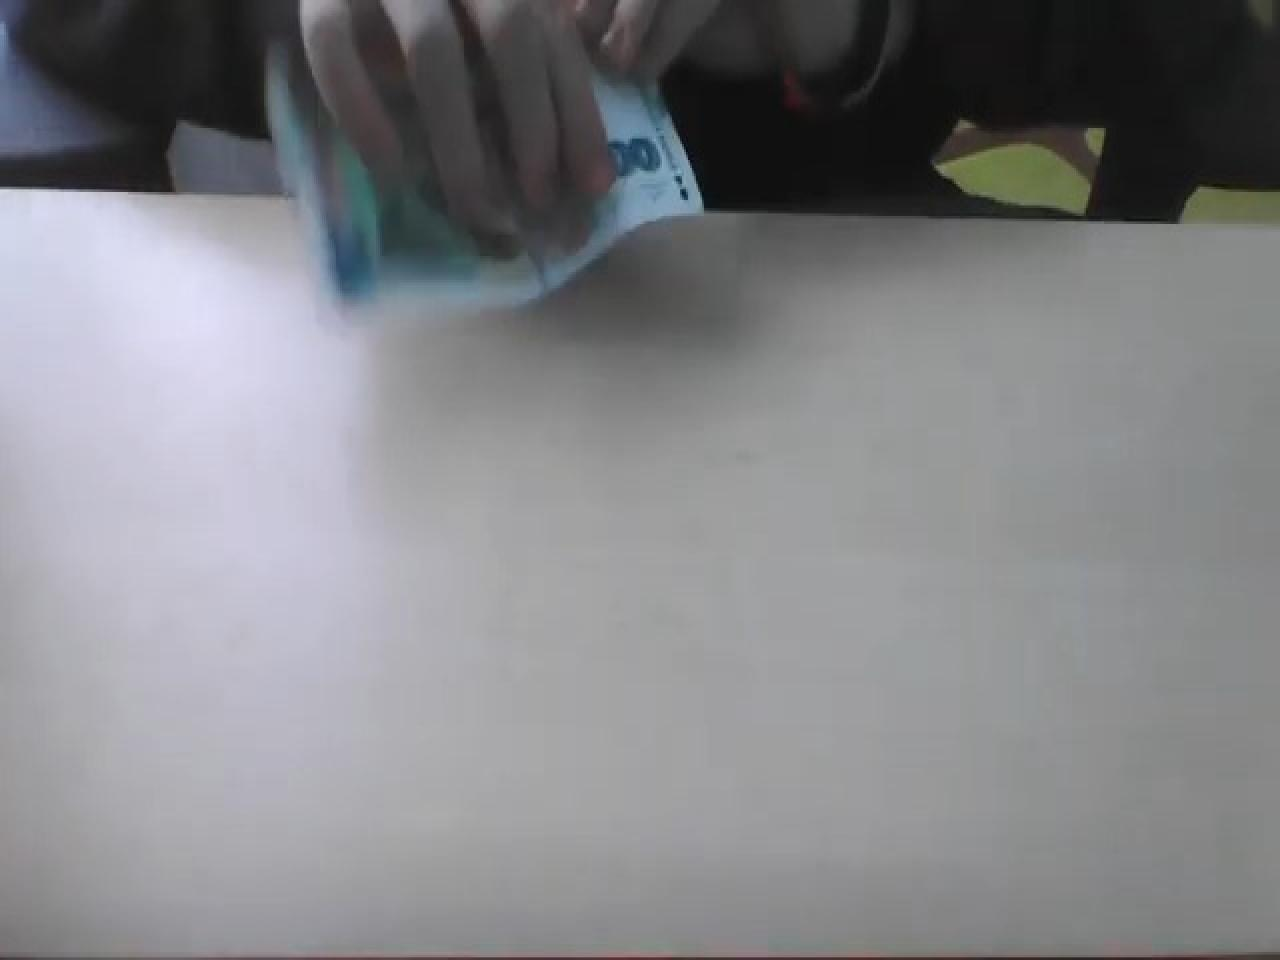100leva: (262, 10, 706, 315)
